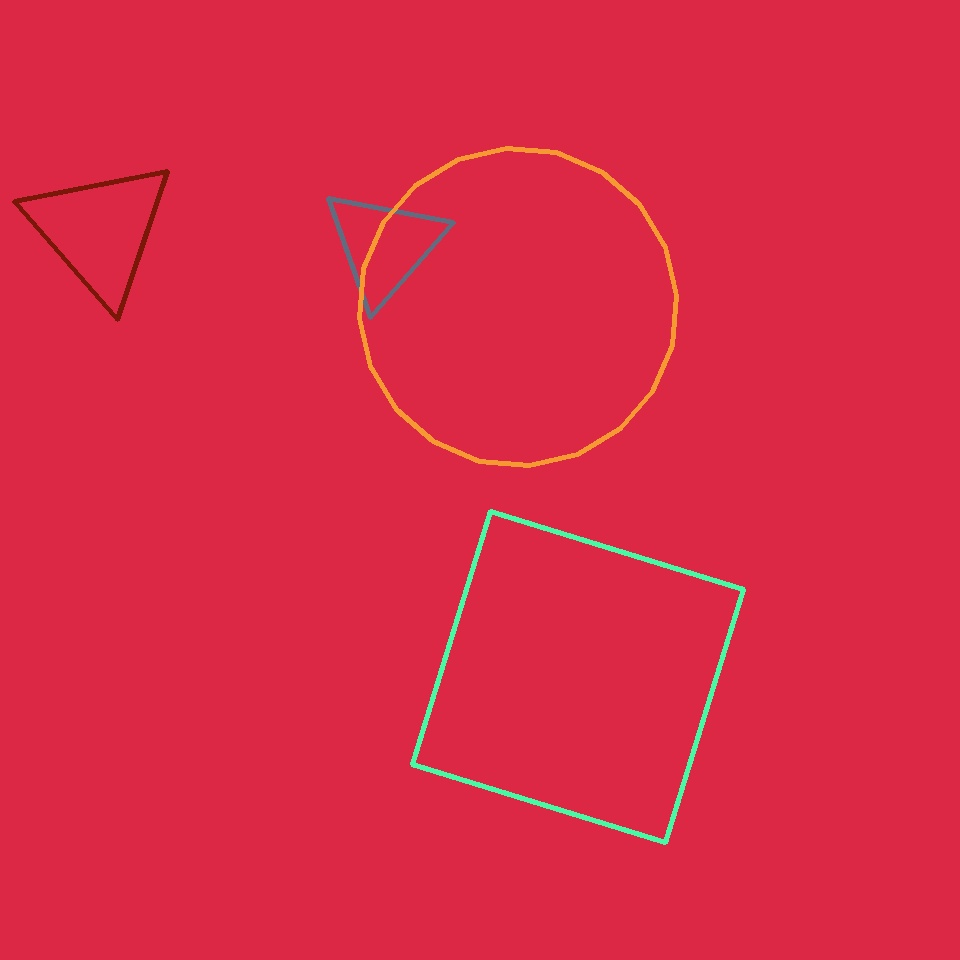circle: (24, 157, 176, 305), (322, 186, 447, 306)
square: (412, 512, 744, 842)
triangle: (360, 148, 676, 466)
